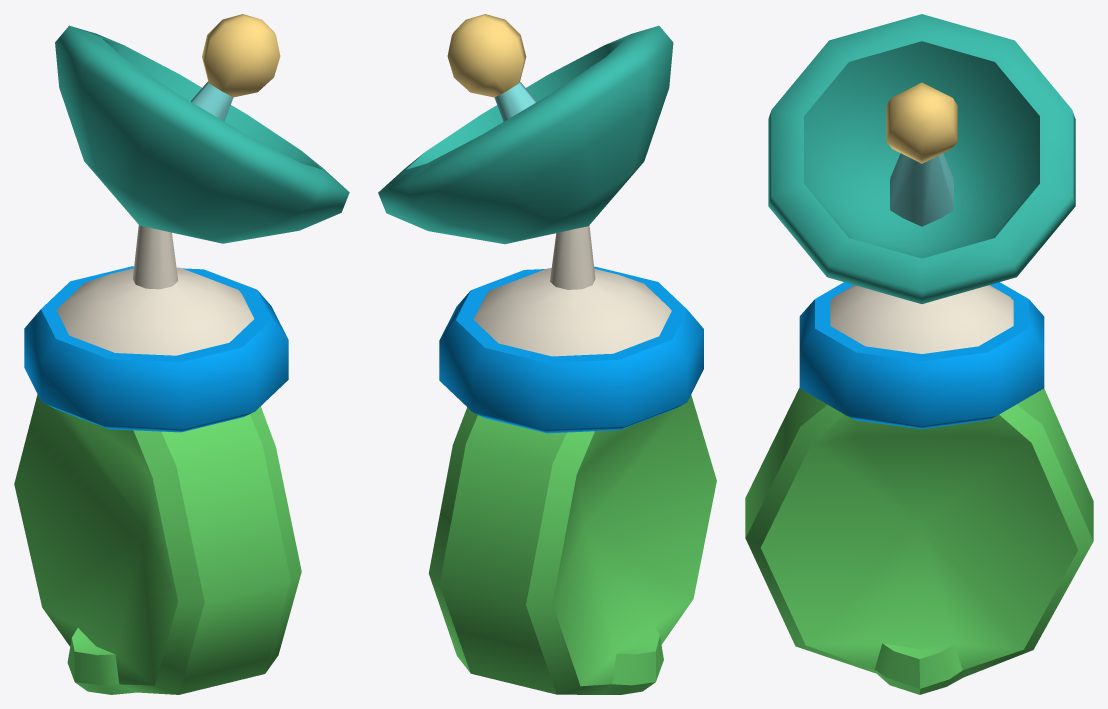
The model's file is Watch_5.fbx.
The picture shows the model from 3 angles, left to right: view 1: azimuth 30°, elevation 25°; view 2: azimuth 150°, elevation 25°; view 3: azimuth 270°, elevation 25°; orthographic projection. The views are drawn at different scales.
Visible parts, largest first — view 1: Watch_5; view 2: Watch_5; view 3: Watch_5.
Boxes of the visible parts, x1,y1,x2,y2 form: Watch_5: [14, 14, 349, 694]; Watch_5: [378, 14, 716, 694]; Watch_5: [745, 14, 1093, 694].
Size of the model in its own units: 10.59 by 22.93 by 11.68.
